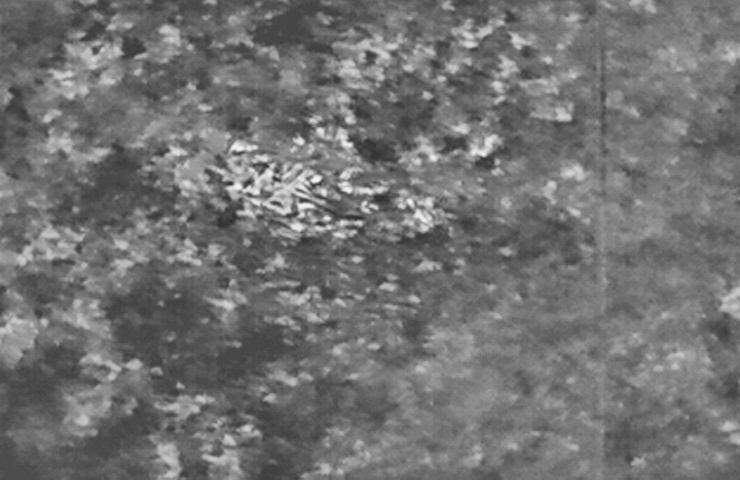landmines: (222, 140, 340, 224)
